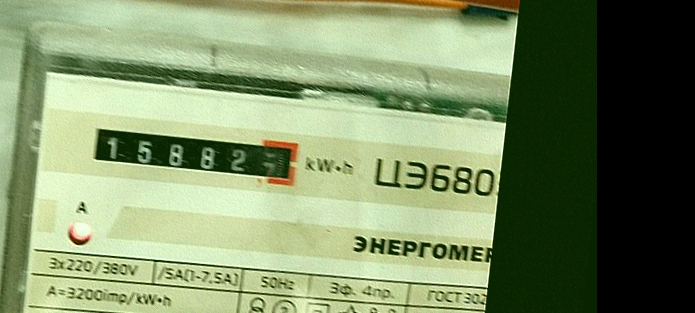1: (104, 133, 121, 160)
2: (230, 145, 249, 172)
5: (135, 137, 154, 164)
7: (261, 158, 276, 175)
8: (166, 140, 186, 166), (198, 142, 217, 169)
screen: (79, 111, 310, 196)
